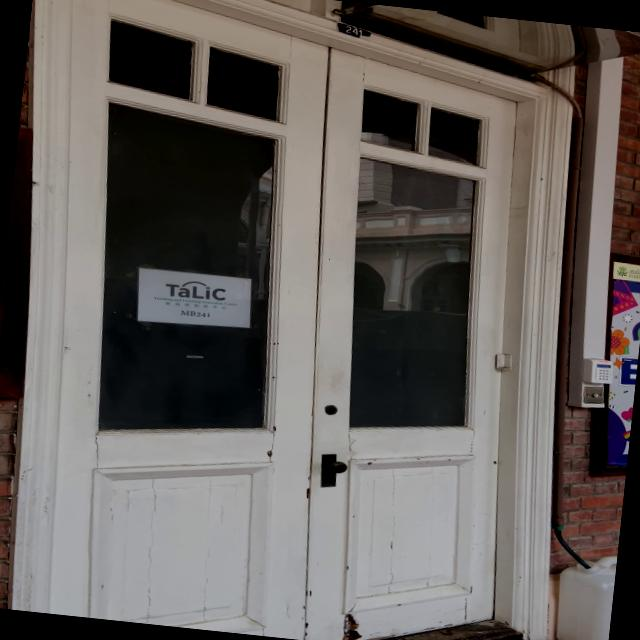room241: (330, 19, 374, 43)
